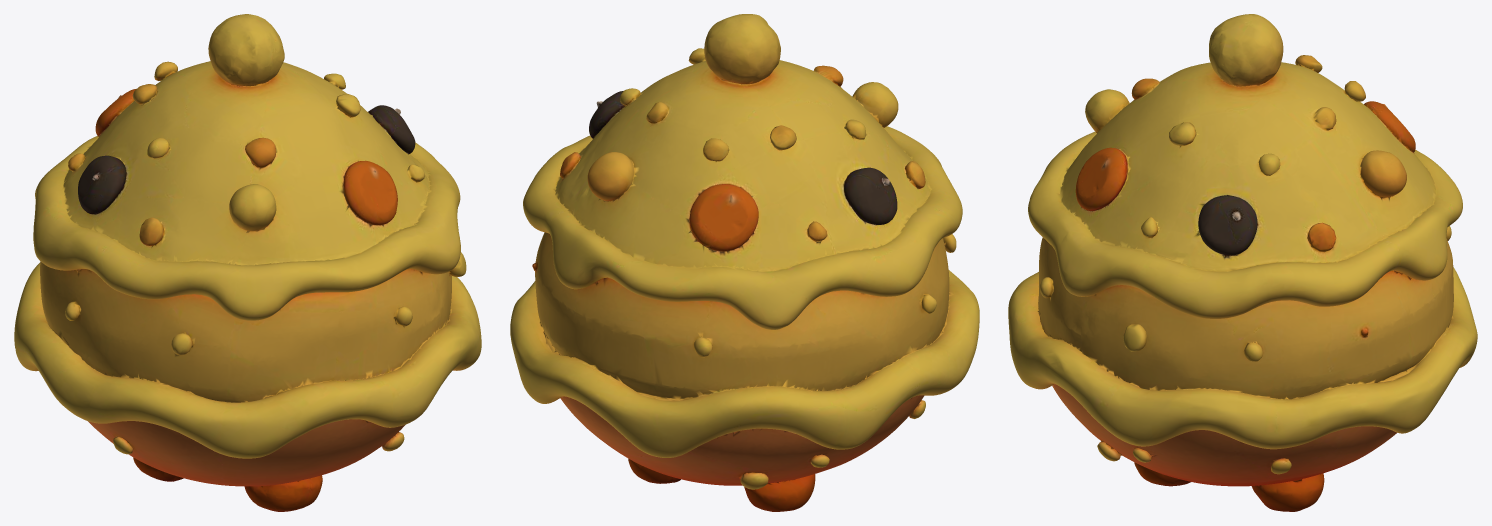
File: env_nest_monster_18.glb
3 views of the same model, side by side, from view 1: azimuth 30°, elevation 25°; view 2: azimuth 150°, elevation 25°; view 3: azimuth 270°, elevation 25° (orthographic).
Visible parts, largest first — view 1: tripo_node_ed95477d-86f7-4978-bad3-d884bd83cc04; view 2: tripo_node_ed95477d-86f7-4978-bad3-d884bd83cc04; view 3: tripo_node_ed95477d-86f7-4978-bad3-d884bd83cc04.
Boxes of the visible parts, box(x1,y1,x2,y2) form: tripo_node_ed95477d-86f7-4978-bad3-d884bd83cc04: box(14, 14, 481, 511); tripo_node_ed95477d-86f7-4978-bad3-d884bd83cc04: box(510, 14, 979, 511); tripo_node_ed95477d-86f7-4978-bad3-d884bd83cc04: box(1008, 14, 1477, 511).
Size of the model in its own units: 1.01 by 1.1 by 1.02.
Materials: 1 (1 with a texture image).
